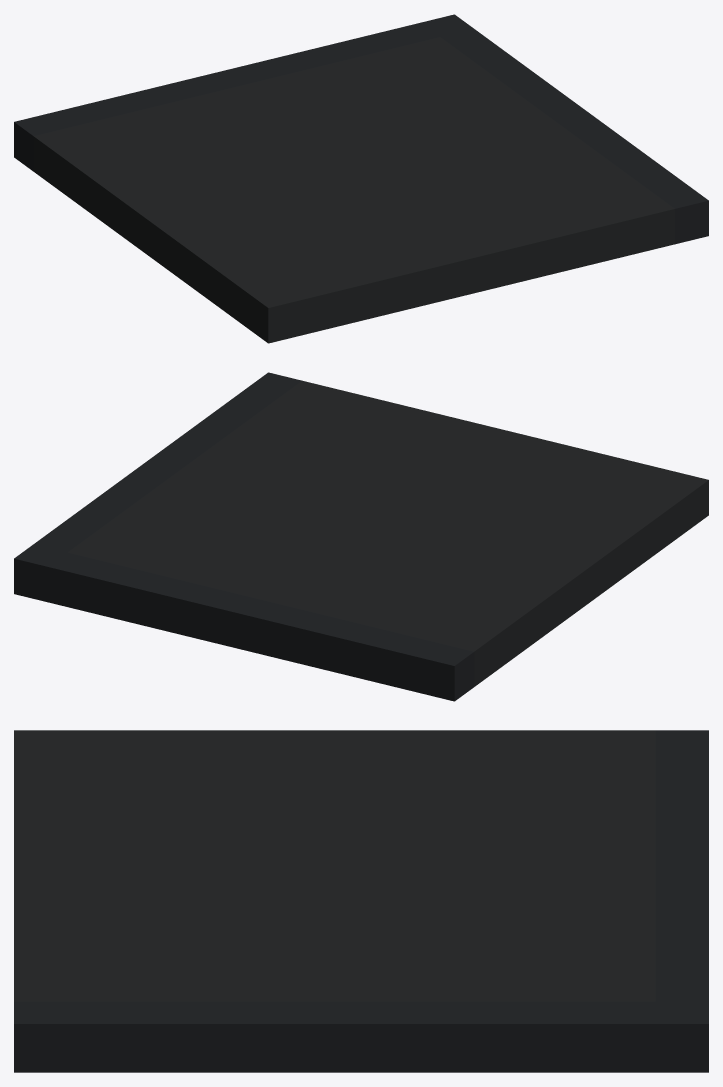
File: Suelo.obj
The picture shows the model from 3 angles, top to bottom: view 1: azimuth 30°, elevation 25°; view 2: azimuth 150°, elevation 25°; view 3: azimuth 270°, elevation 25°; orthographic projection. The views are drawn at different scales.
Visible parts, largest first — view 1: Suelo; view 2: Suelo; view 3: Suelo.
Boxes of the visible parts, box(x1,y1,x2,y2) form: Suelo: box(14, 14, 708, 343); Suelo: box(14, 372, 708, 701); Suelo: box(14, 730, 708, 1072).
Bounding box in the file's own units: 1.3 × 0.1 × 1.3.
